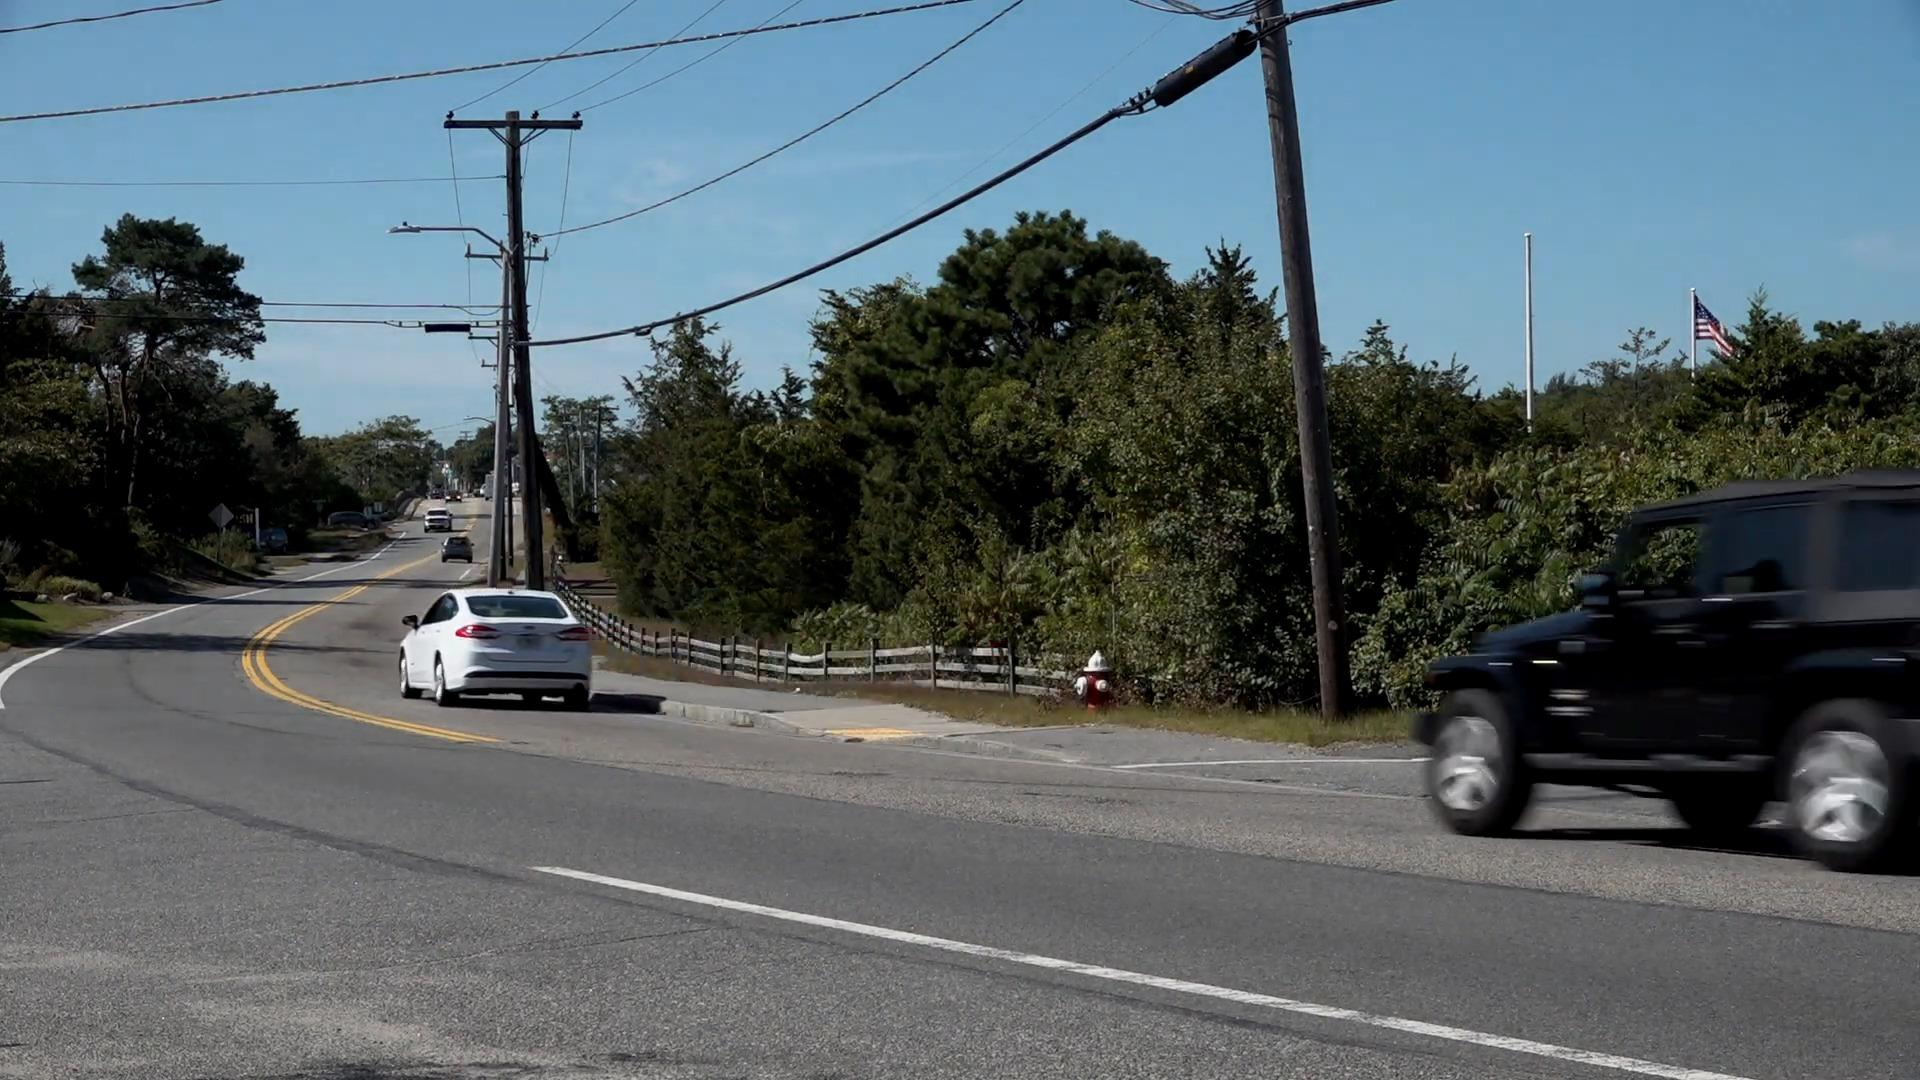sedans: (396, 585, 595, 708)
suv: (1423, 483, 1920, 872)
